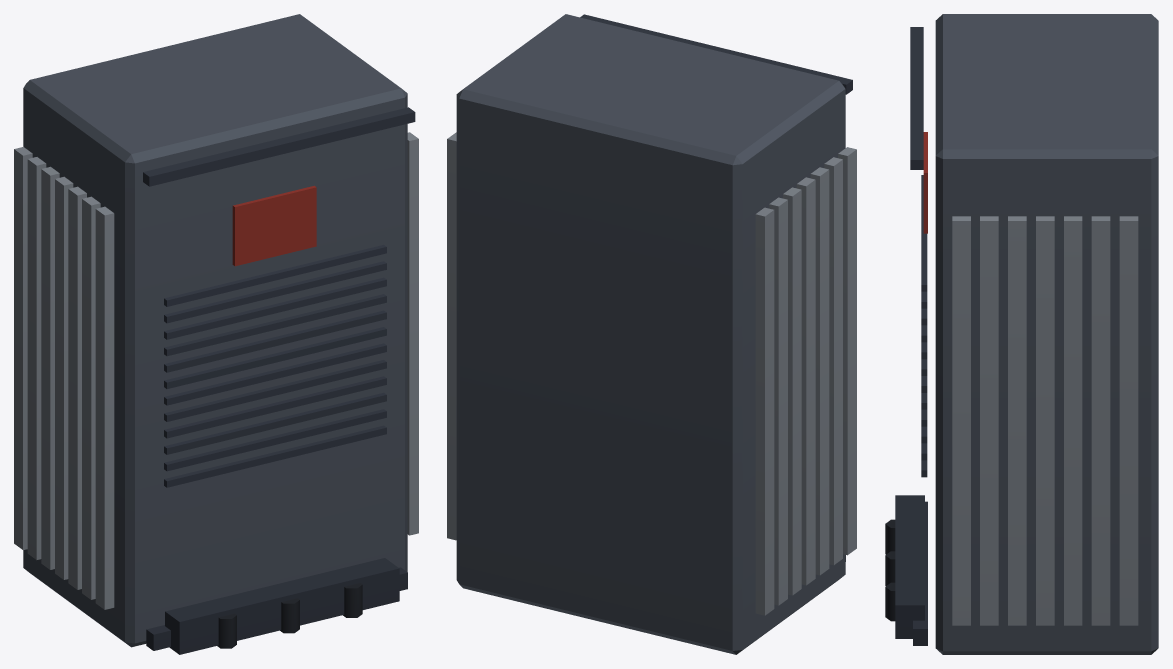
File: transformer_cabinet.glb
3 renders of one model, left to right at view 1: azimuth 30°, elevation 25°; view 2: azimuth 150°, elevation 25°; view 3: azimuth 270°, elevation 25°, orthographic. The views are drawn at different scales.
Visible parts, largest first — view 1: transformer_cabinet; view 2: transformer_cabinet; view 3: transformer_cabinet.
Boxes of the visible parts, box(x1,y1,x2,y2) form: transformer_cabinet: box(14, 14, 418, 654); transformer_cabinet: box(447, 14, 856, 654); transformer_cabinet: box(885, 14, 1158, 654).
Size of the model in its own units: 1 by 1.5 by 0.735.
